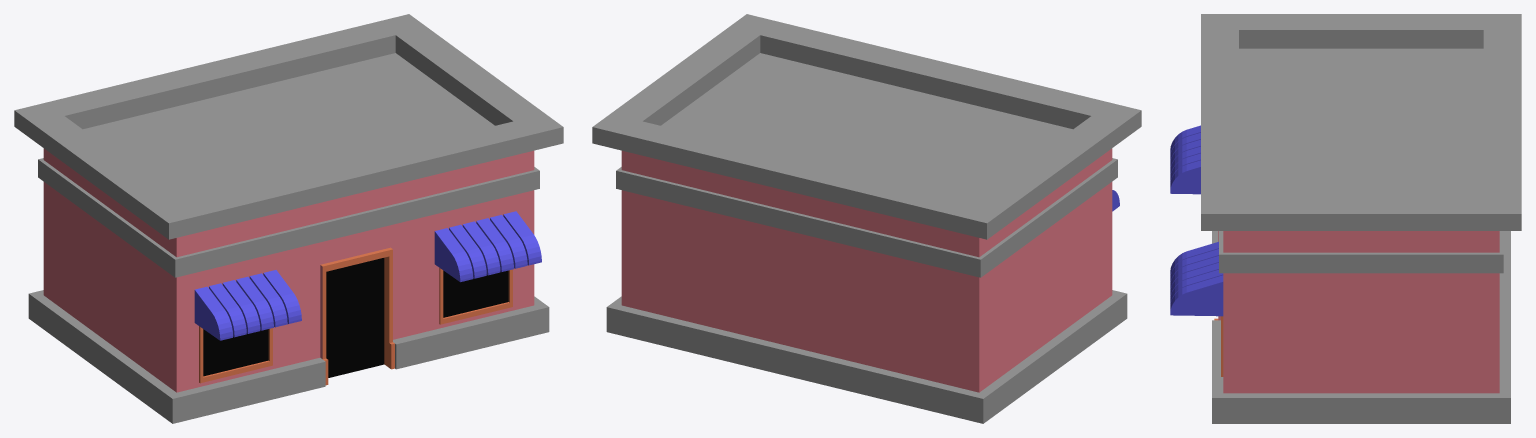
The model's file is house3.fbx.
3 renders of one model, left to right at view 1: azimuth 30°, elevation 25°; view 2: azimuth 150°, elevation 25°; view 3: azimuth 270°, elevation 25°, orthographic. The views are drawn at different scales.
Parts seen in each view (by area): view 1: house3attr; view 2: house3attr; view 3: house3attr.
Boxes of the visible parts, left/top/right/bottom form: house3attr: left=14, top=14, right=563, bottom=423; house3attr: left=592, top=14, right=1141, bottom=423; house3attr: left=1170, top=14, right=1521, bottom=423.
Bounding box in the file's own units: 8.57 × 4.29 × 6.36.
